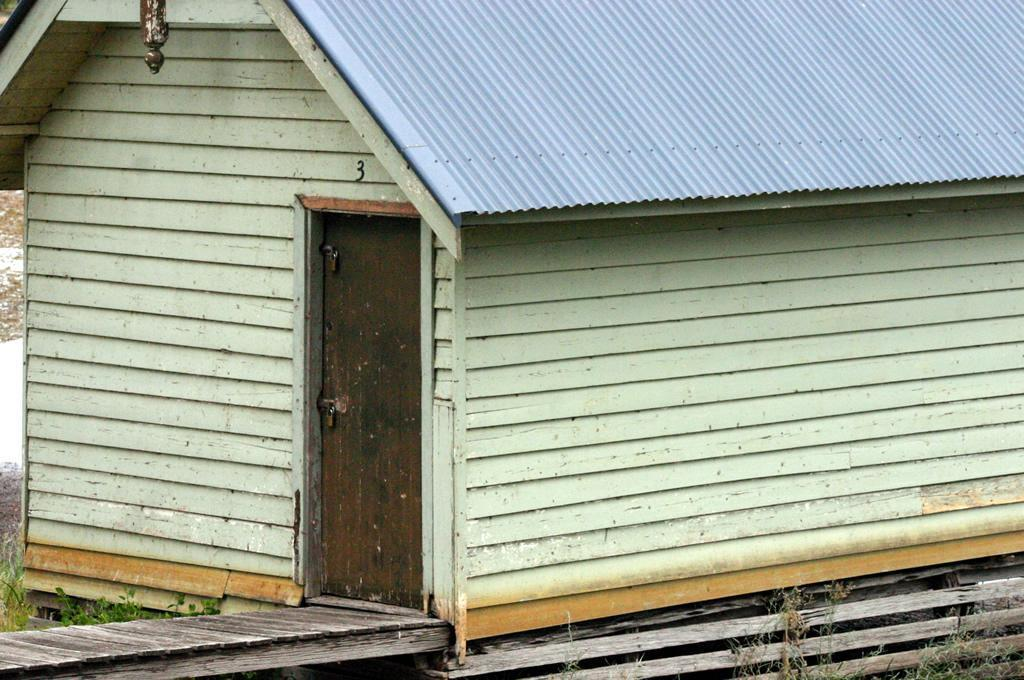door: (328, 219, 417, 592)
